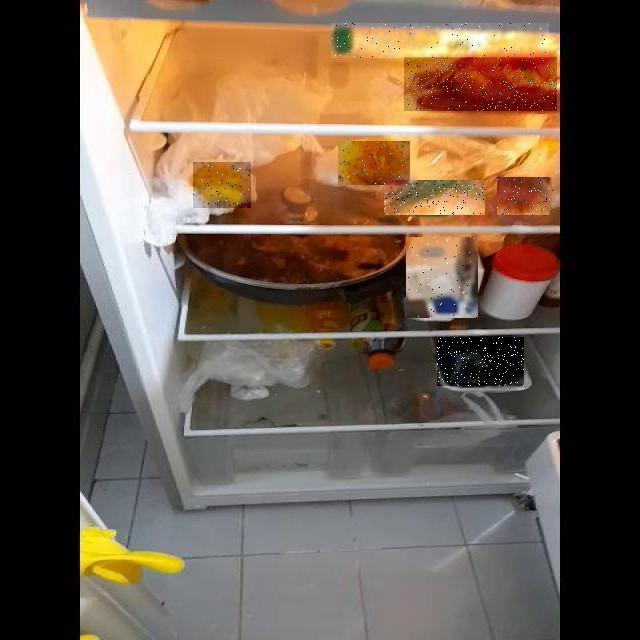Broccoli: (437, 337, 524, 386)
Carrot: (404, 57, 557, 111)
Chillies: (384, 180, 485, 215)
Lemon: (339, 141, 411, 185), (193, 162, 251, 208)
Milk: (331, 23, 549, 58), (407, 237, 479, 318)
Tomato Paste: (498, 177, 554, 215)
